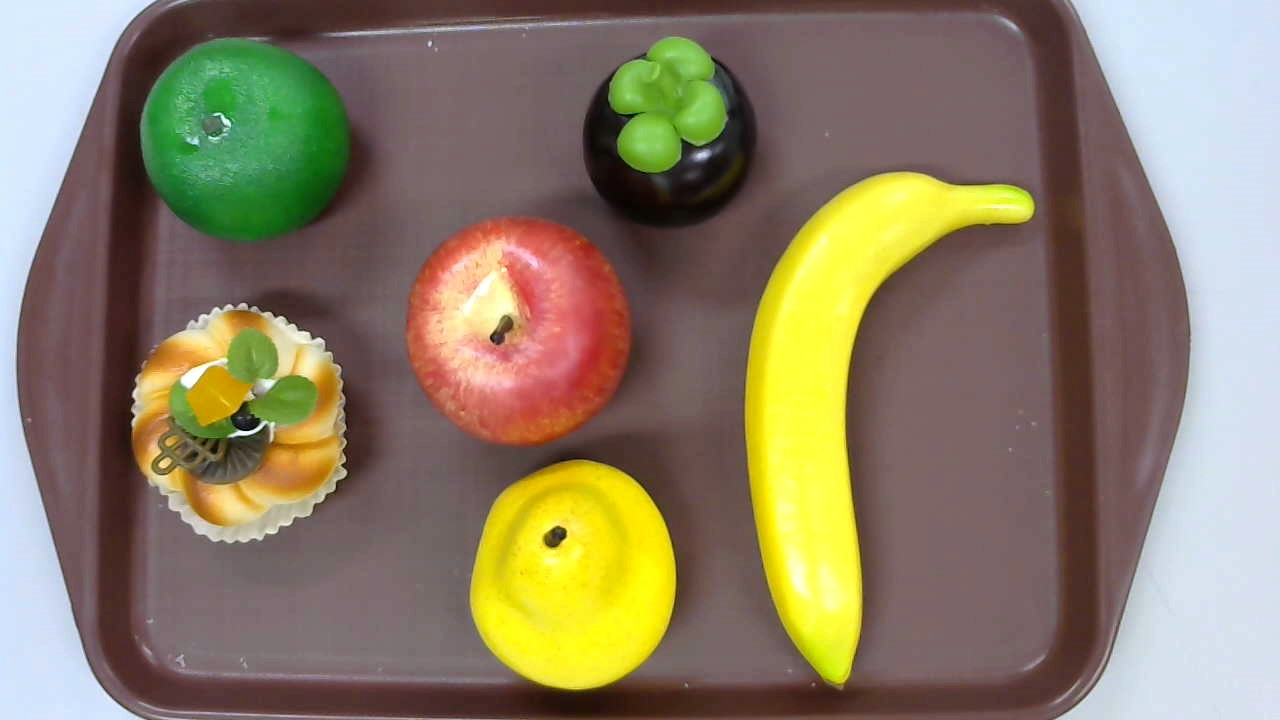banana: (745, 171, 1035, 691)
fruit tower: (129, 303, 350, 544)
green orange: (139, 38, 347, 241)
mangosteen: (583, 36, 757, 227)
red apple: (406, 214, 633, 447)
yellow pear: (468, 460, 678, 694)
